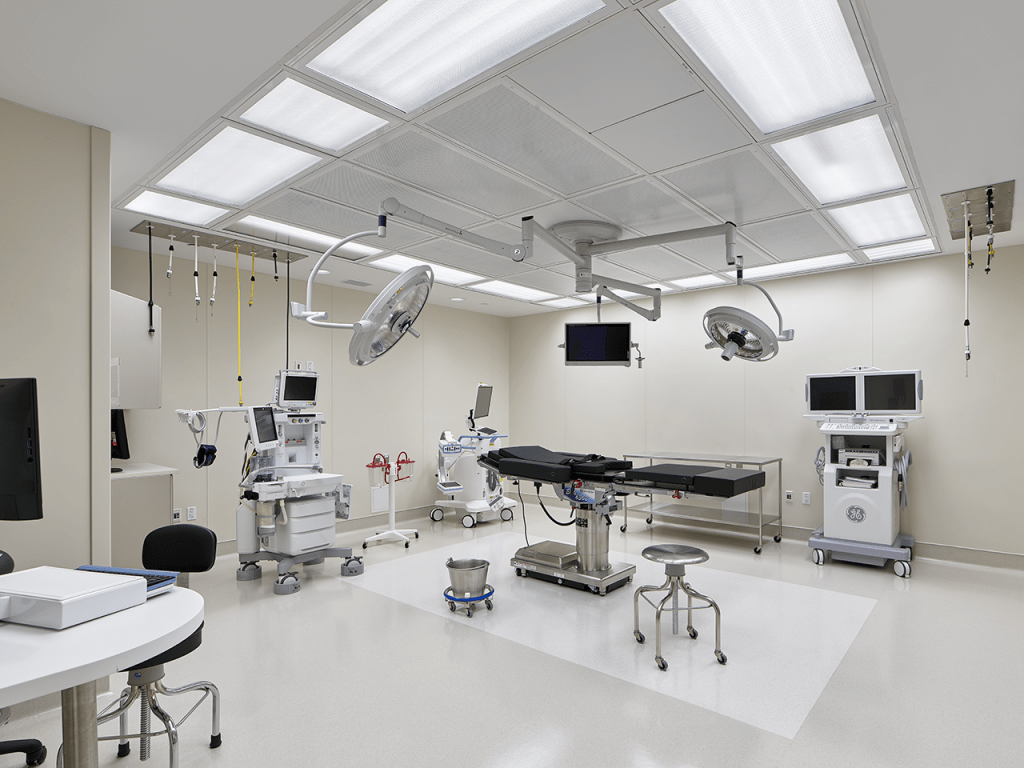bedside_monitor: (565, 320, 632, 368), (244, 405, 281, 450), (275, 371, 319, 408), (472, 380, 495, 421)
chair: (140, 522, 223, 768), (634, 541, 730, 672)
computer: (1, 377, 42, 529), (865, 372, 916, 411), (803, 373, 854, 412), (105, 406, 137, 459)
keyboard: (80, 567, 175, 590), (813, 418, 911, 438)
medical_drawer: (266, 499, 345, 556)
operating_bed: (474, 443, 766, 596)
surgical_light: (348, 262, 435, 369), (700, 307, 781, 363)
table: (1, 564, 208, 768)
utility_cart: (619, 449, 784, 556)
waste_bin: (443, 557, 494, 617)
